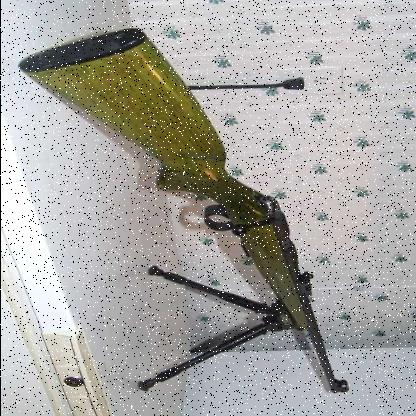rifle: (9, 23, 369, 405)
